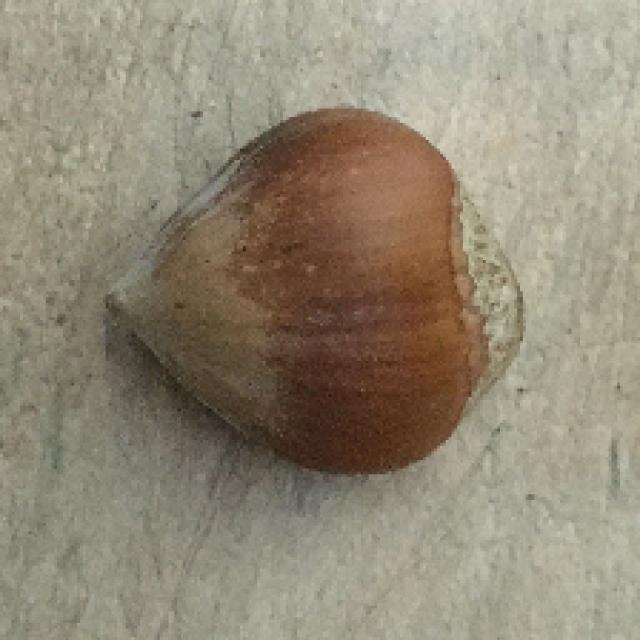QualityHazelnut: (111, 105, 523, 473)
